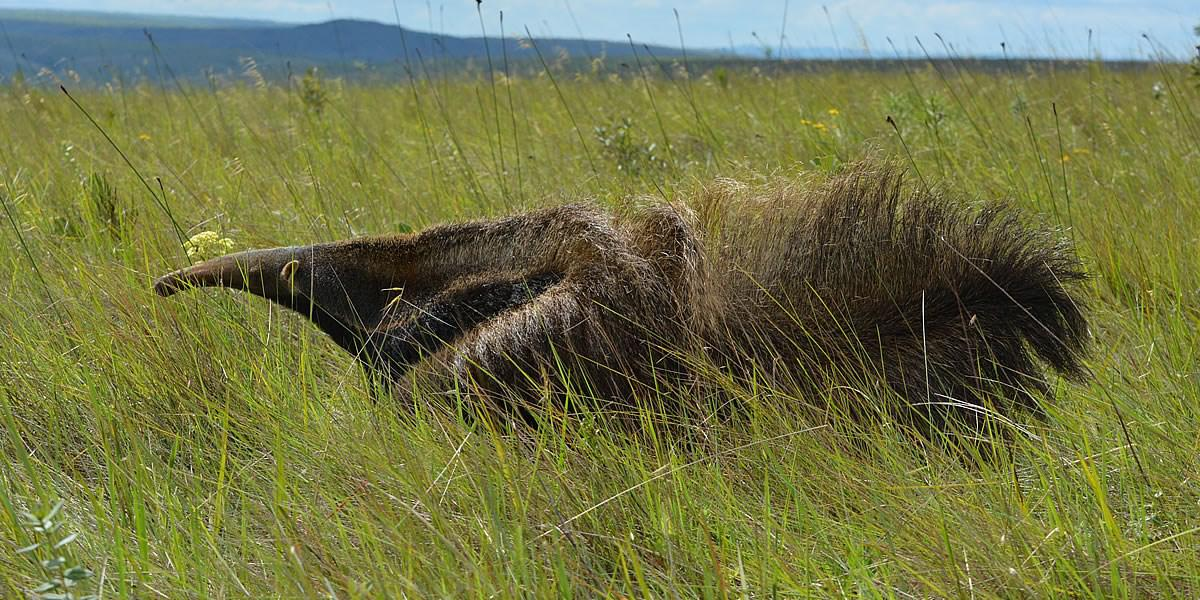TamanduaBandeira: (142, 175, 1090, 463)
